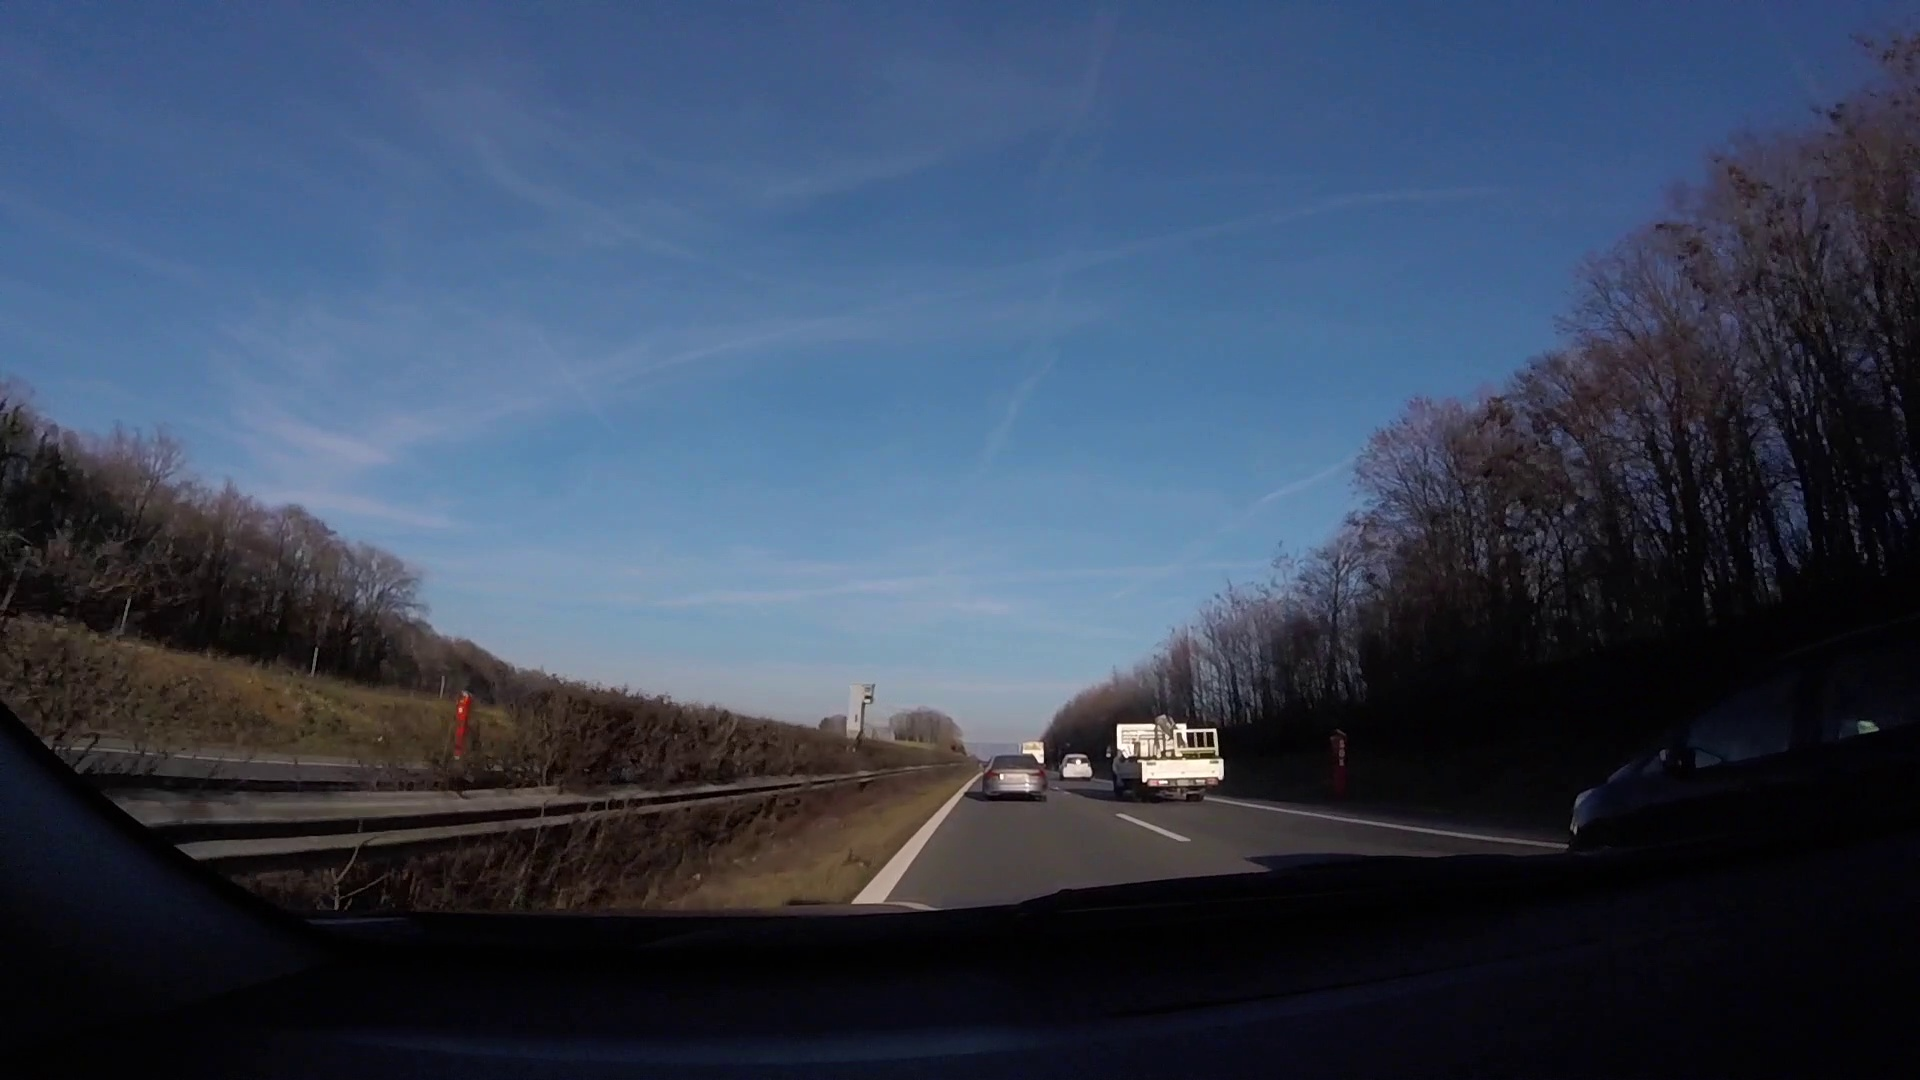radar: (844, 680, 878, 744)
